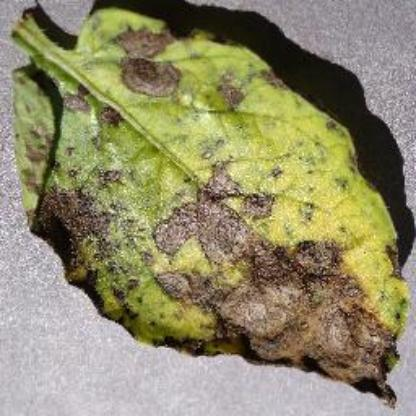Early-Blight: (9, 6, 409, 406)
